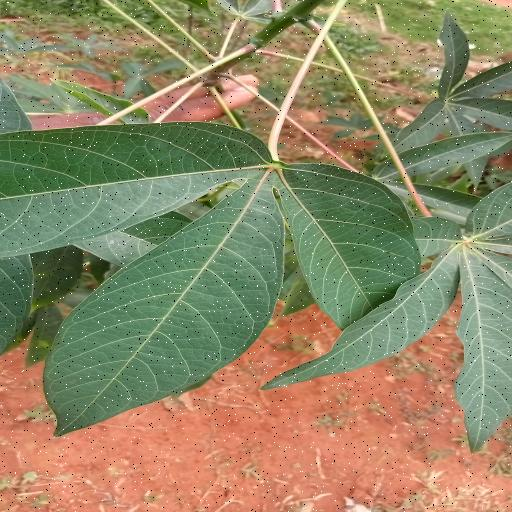Cassava_Healthy: (0, 113, 439, 435)
